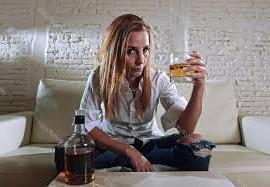Drunk: (126, 33, 150, 77)
